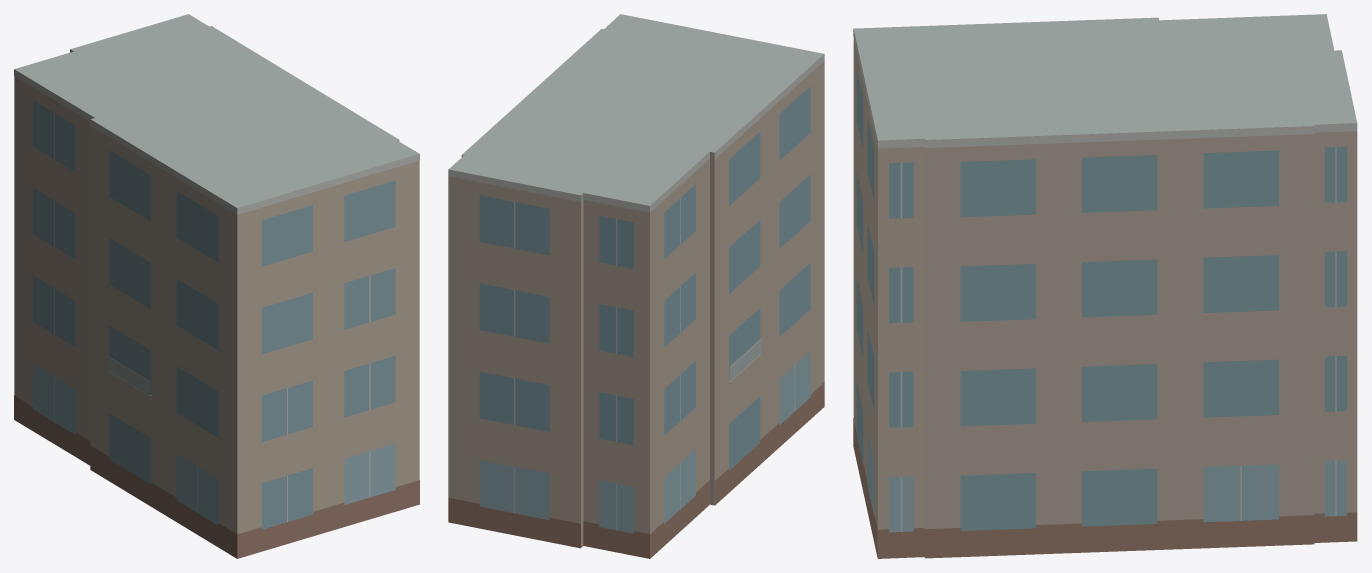
The model's file is survey-upis-32737180.glb.
3 views of the same model, side by side, from view 1: azimuth 30°, elevation 25°; view 2: azimuth 150°, elevation 25°; view 3: azimuth 270°, elevation 25° (orthographic). The views are drawn at different scales.
Parts seen in each view (by area): view 1: survey-upis-32737180.tmp; view 2: survey-upis-32737180.tmp; view 3: survey-upis-32737180.tmp.
Part boxes in pixels (box(x1,y1,x2,y2)): survey-upis-32737180.tmp: box(14, 14, 419, 558); survey-upis-32737180.tmp: box(448, 14, 824, 558); survey-upis-32737180.tmp: box(853, 14, 1357, 558).
Bounding box in the file's own units: 8.25 × 12.7 × 13.87.
